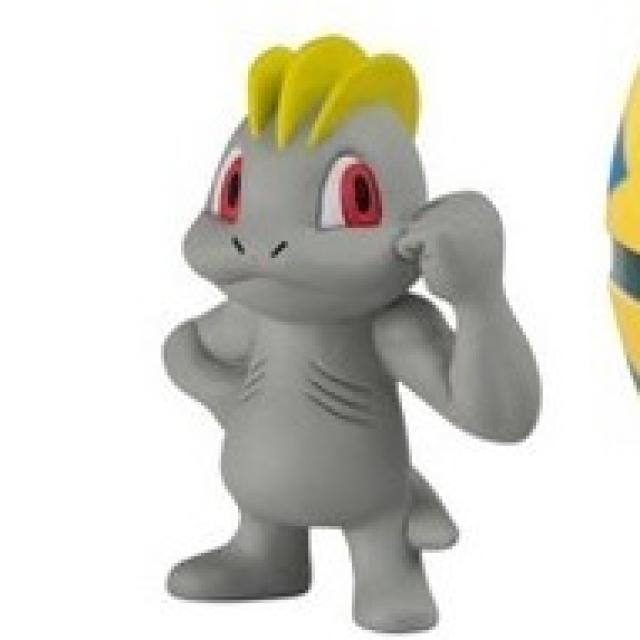Machop: (132, 39, 570, 640)
